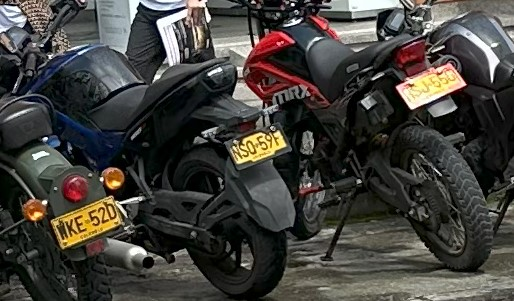number plate: (51, 196, 122, 249), (396, 63, 465, 109), (225, 124, 290, 169)
